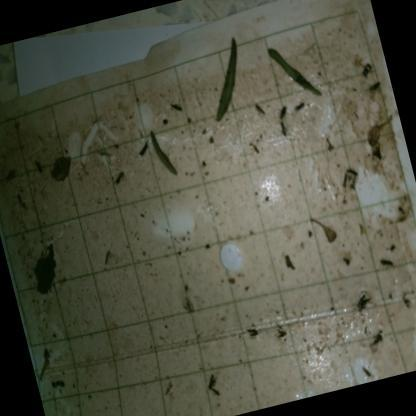prays_oleae: (90, 244, 121, 280), (352, 287, 380, 319), (364, 326, 392, 358), (270, 314, 292, 349), (163, 90, 186, 123), (204, 370, 226, 404), (240, 318, 265, 347), (107, 166, 132, 194), (288, 96, 312, 124), (398, 289, 416, 323), (247, 96, 268, 122), (368, 140, 388, 164), (375, 254, 396, 276), (271, 102, 293, 122), (356, 57, 376, 78), (275, 119, 292, 143), (366, 77, 385, 94)
